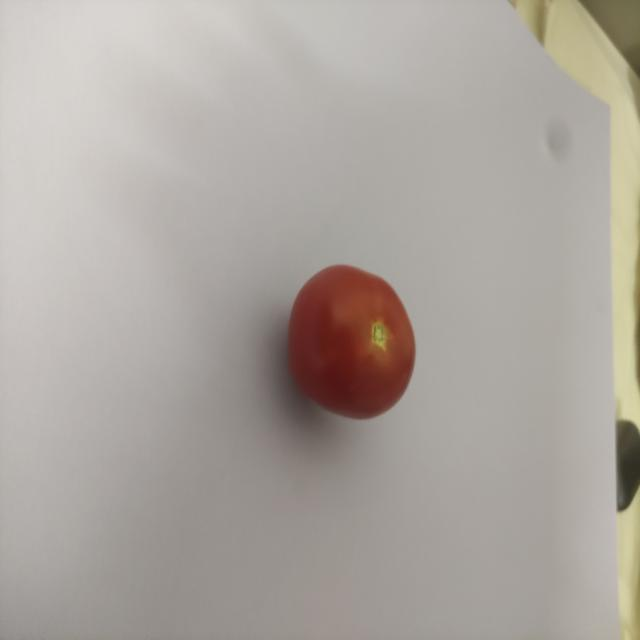kirmizi: (280, 258, 429, 420)
